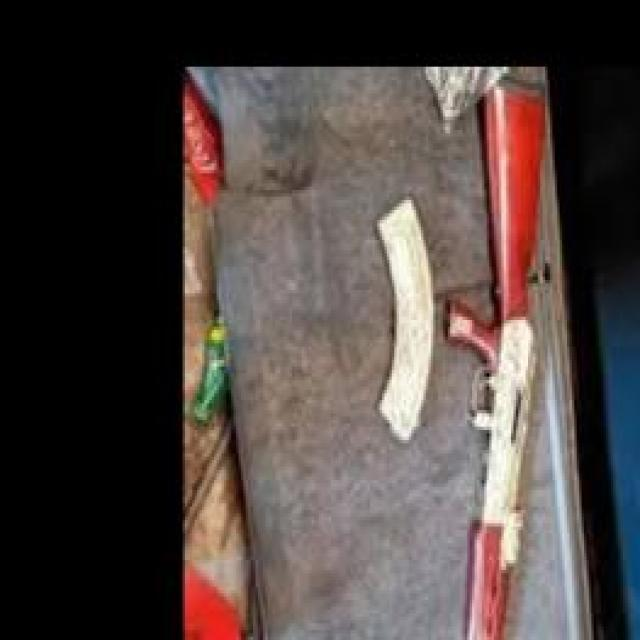weapon: (444, 74, 546, 640)
